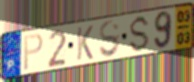2: (47, 28, 68, 69)
9: (153, 9, 174, 51)
K: (76, 24, 94, 62)
P: (22, 32, 44, 72)
S: (98, 19, 121, 59), (128, 14, 151, 54)
